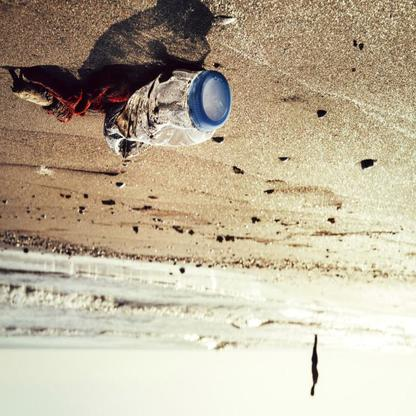plastic bottle: (104, 70, 231, 158)
